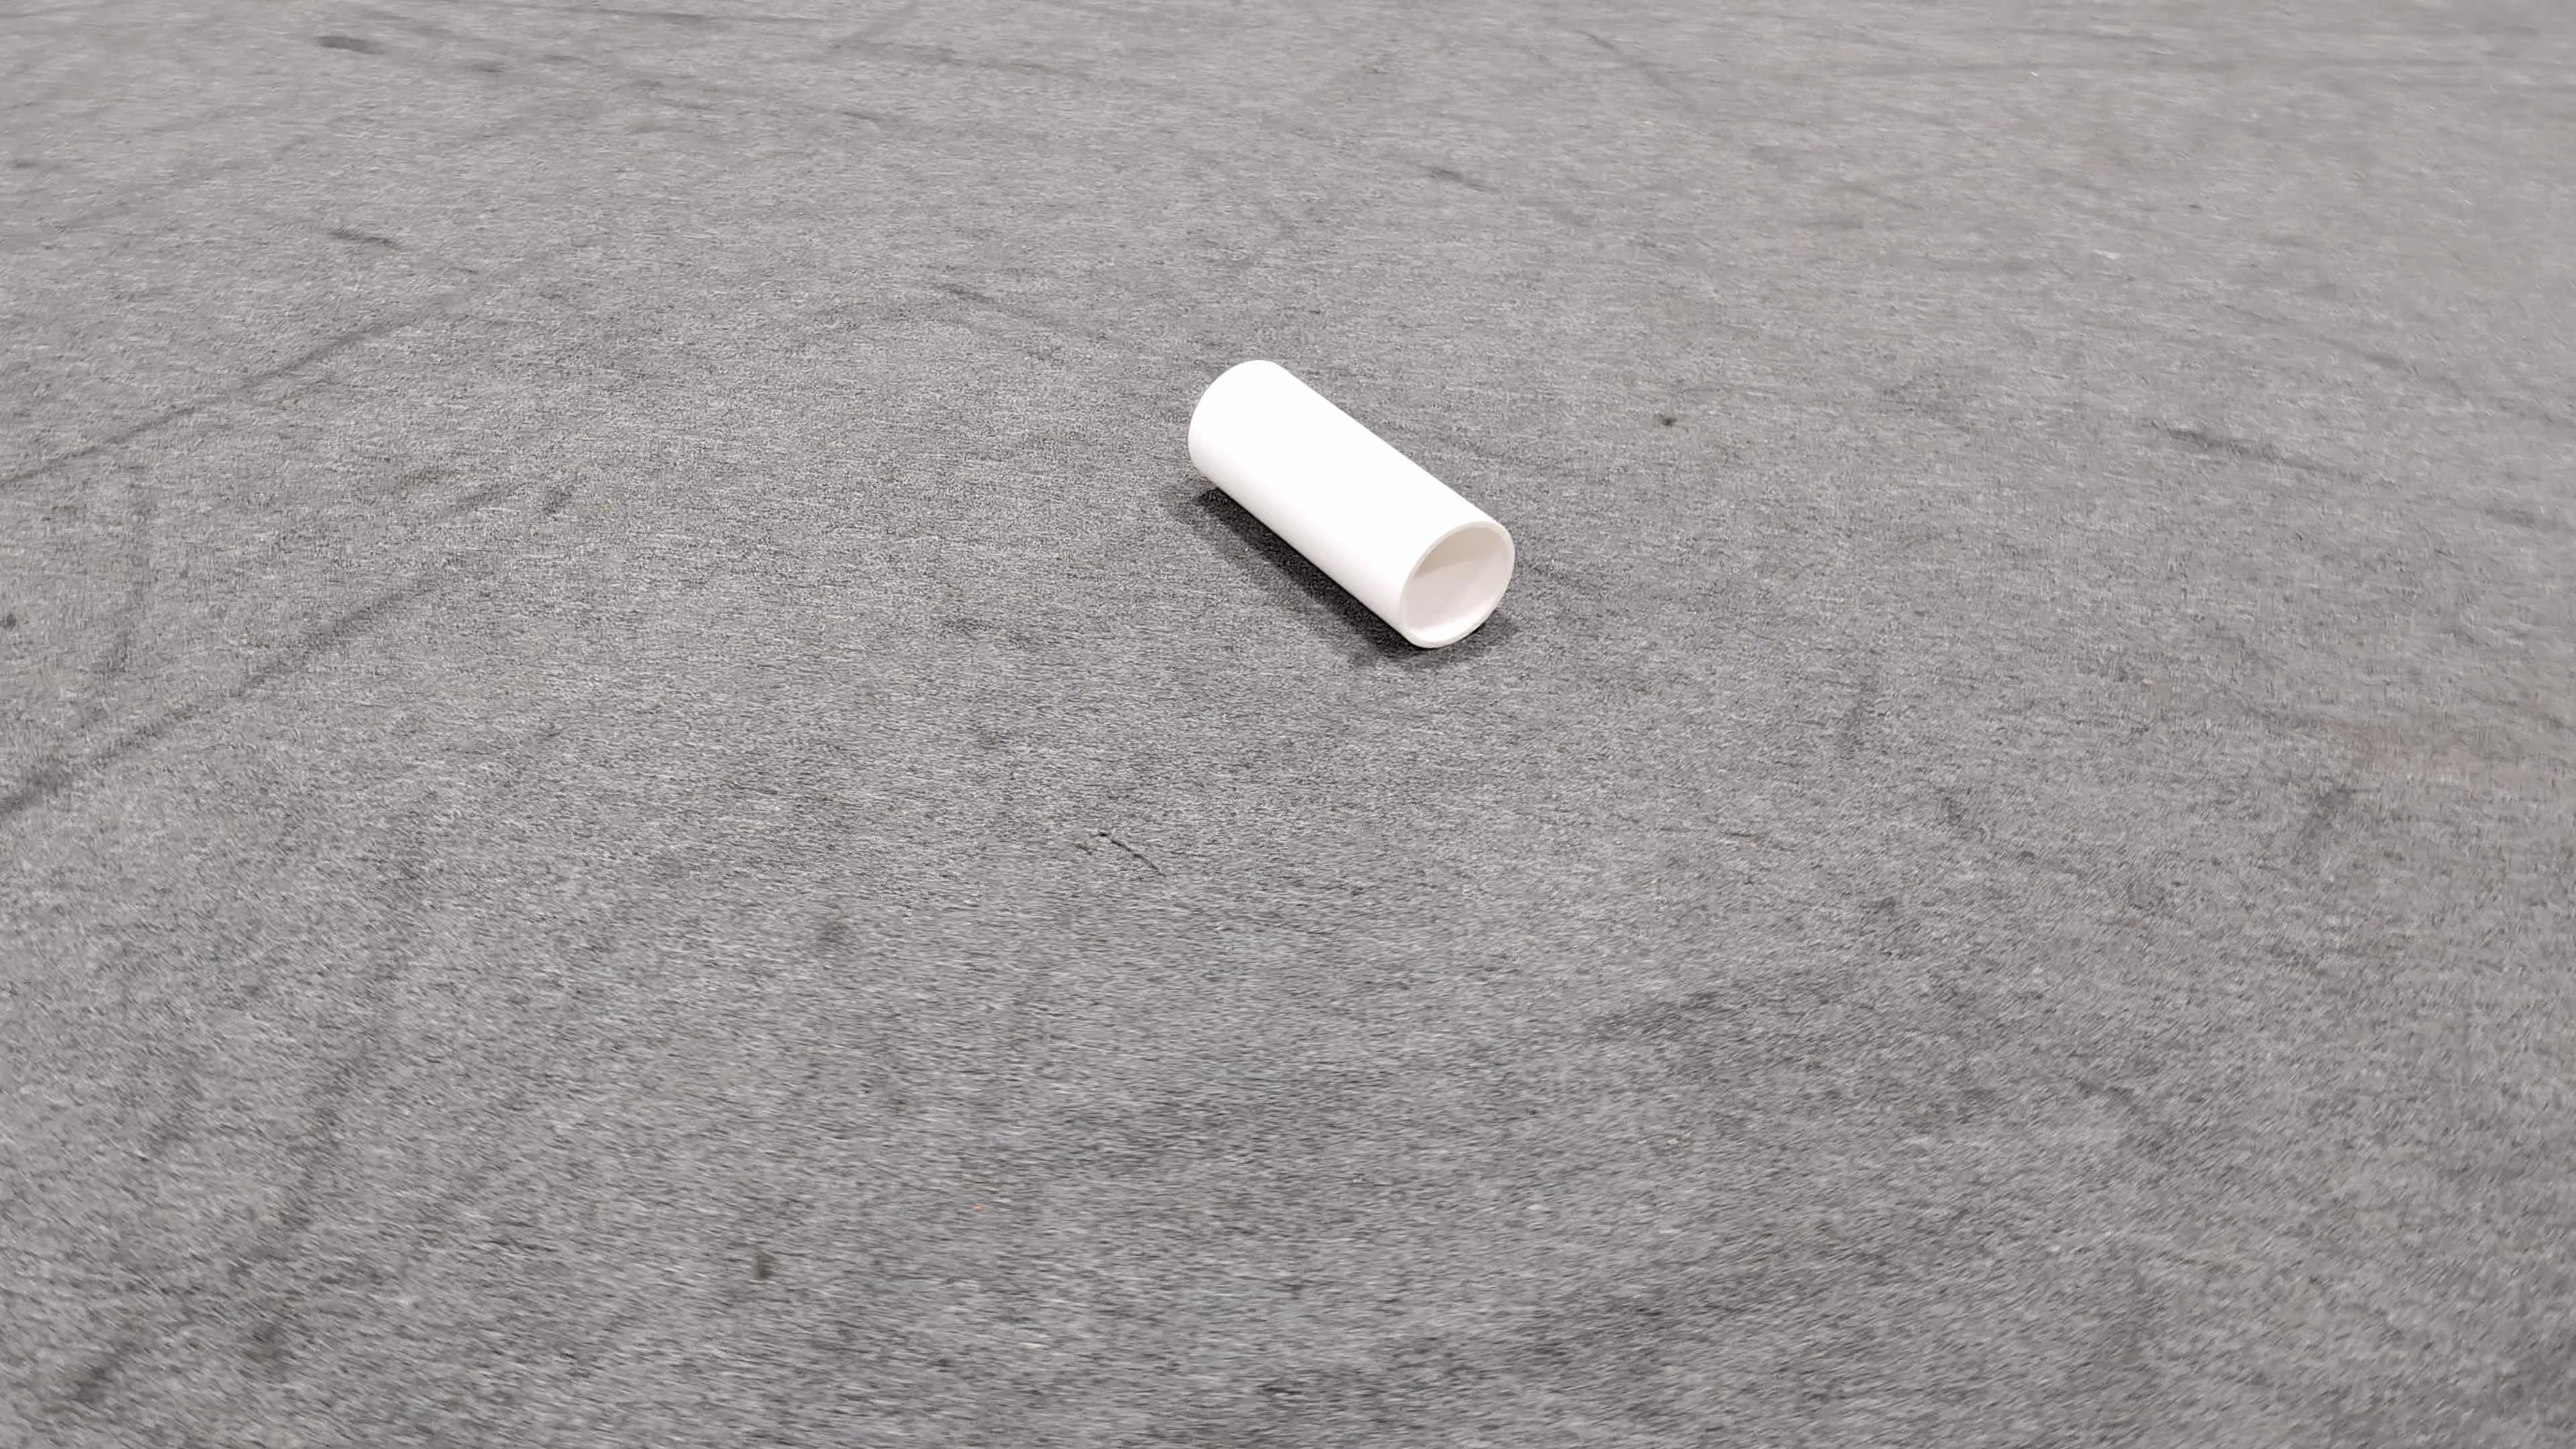coral: (1189, 354, 1516, 648)
